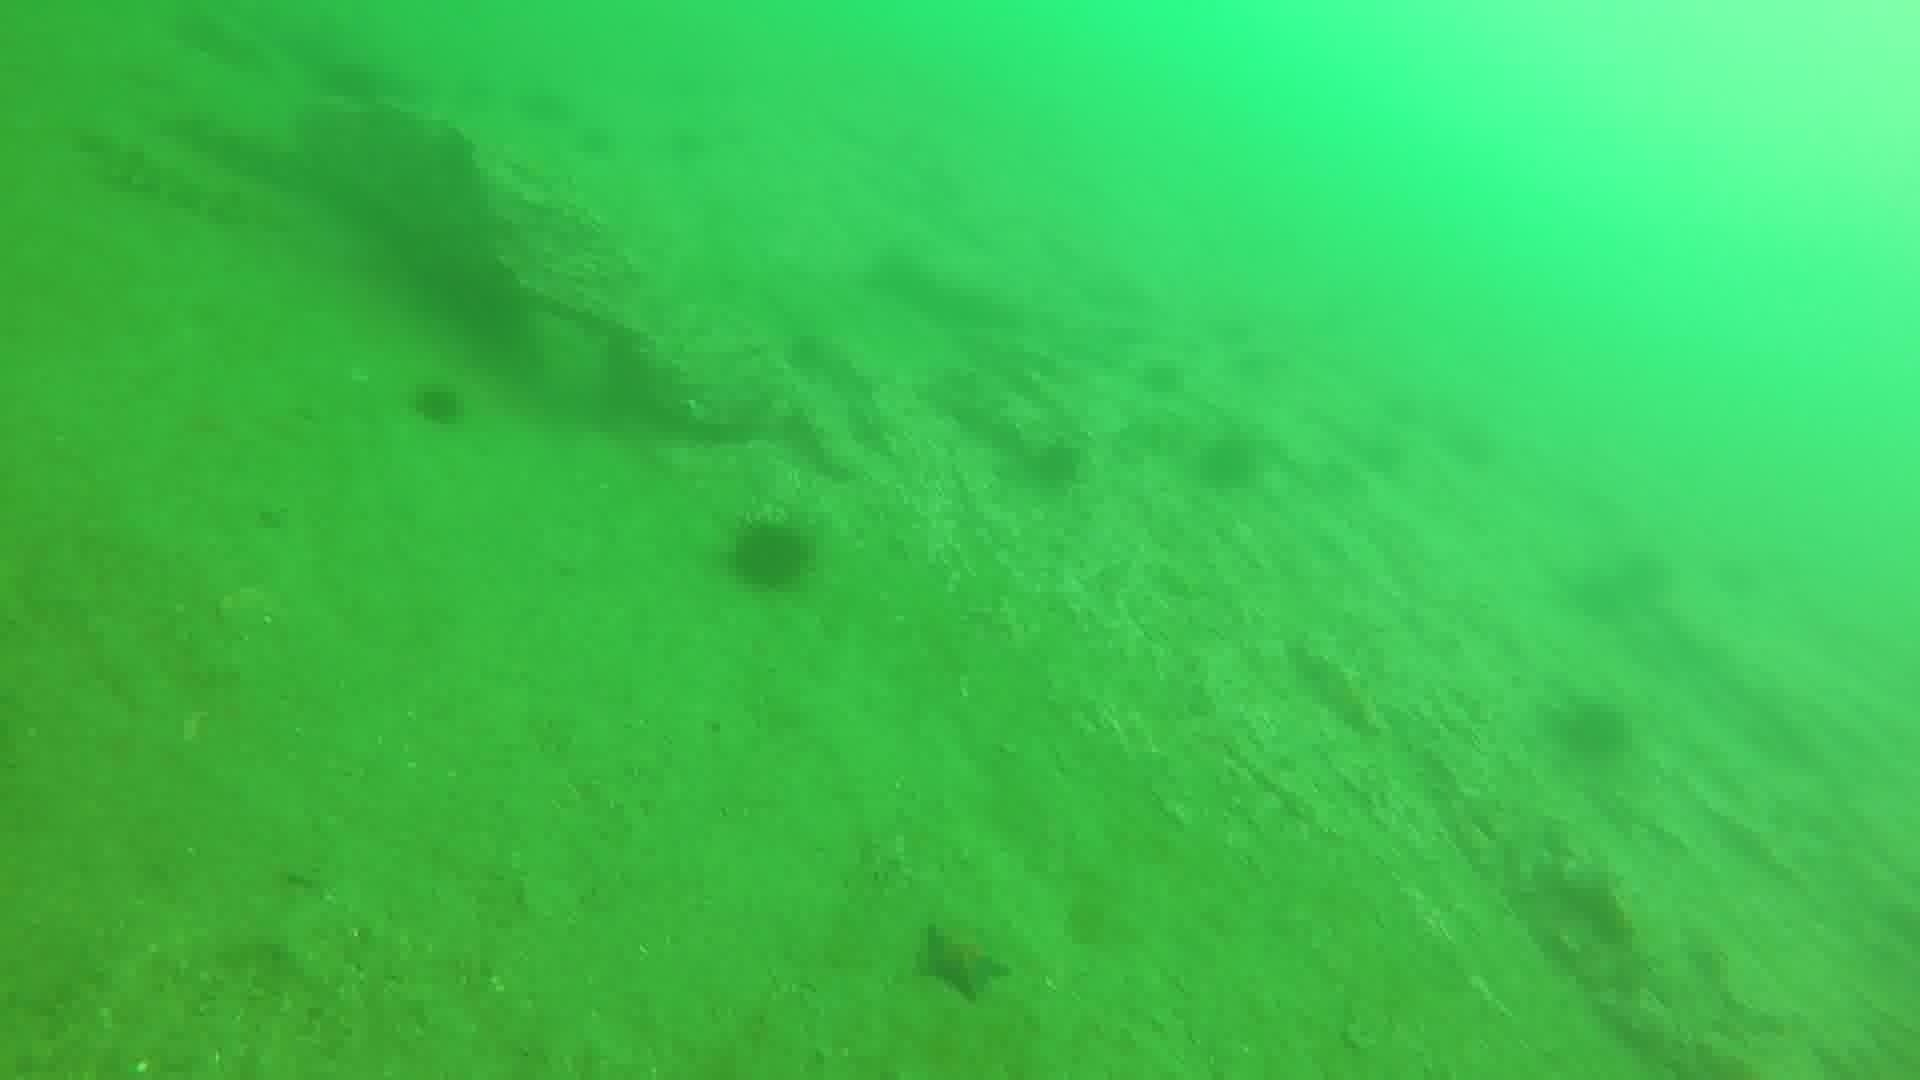echinus: (723, 513, 818, 596), (1549, 691, 1636, 766), (1189, 427, 1266, 496), (1019, 433, 1091, 496), (405, 375, 471, 431), (1133, 352, 1189, 401)
holothurian: (73, 117, 284, 229), (1284, 629, 1394, 738)
starfish: (1284, 629, 1393, 738), (910, 918, 1014, 1004)
